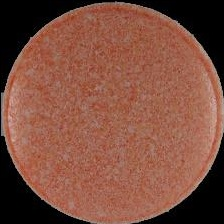51079-670: (0, 0, 224, 224)
